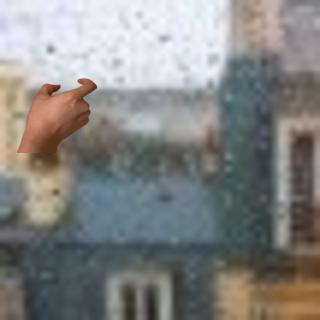HATE: (24, 72, 100, 149)
